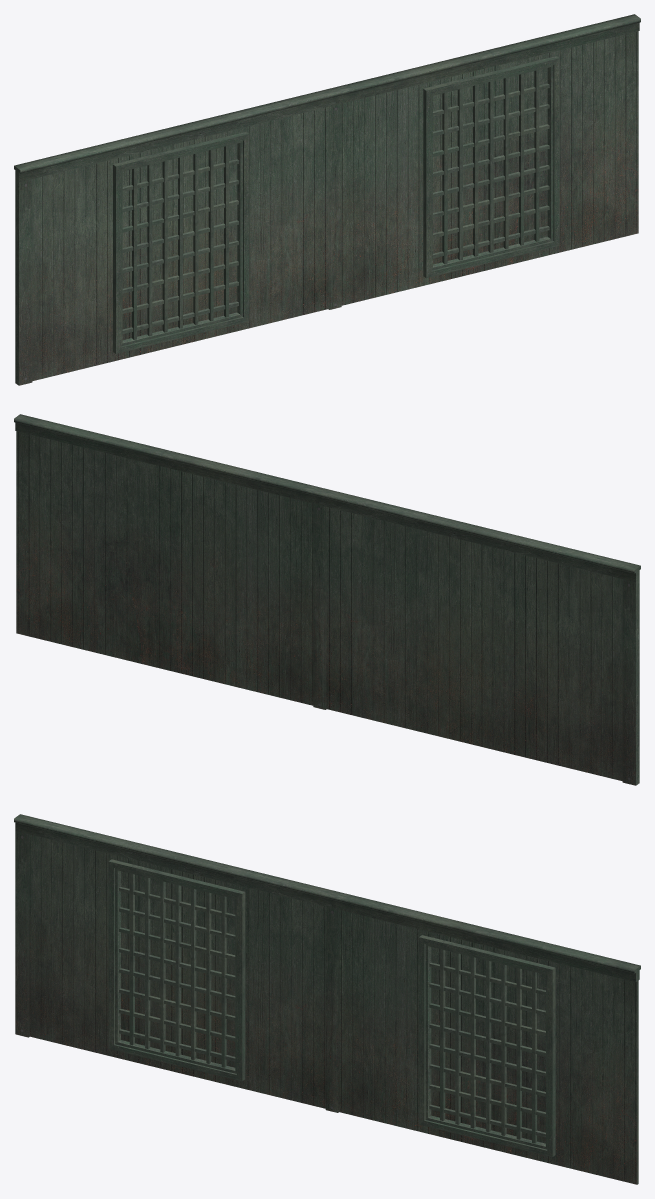
Rendered from Wooden_Fence_04.fbx.
3 renders of one model, top to bottom at view 1: azimuth 30°, elevation 25°; view 2: azimuth 150°, elevation 25°; view 3: azimuth 330°, elevation 25°, orthographic.
Parts seen in each view (by area): view 1: Wooden_Fence_04_LOD0; view 2: Wooden_Fence_04_LOD0; view 3: Wooden_Fence_04_LOD0.
Boxes of the visible parts, <box> form: Wooden_Fence_04_LOD0: <box>14,14,640,385</box>; Wooden_Fence_04_LOD0: <box>14,414,640,785</box>; Wooden_Fence_04_LOD0: <box>14,814,640,1184</box>.
Size of what is drawn, in the model's own units: 600 by 200 by 11.18.
